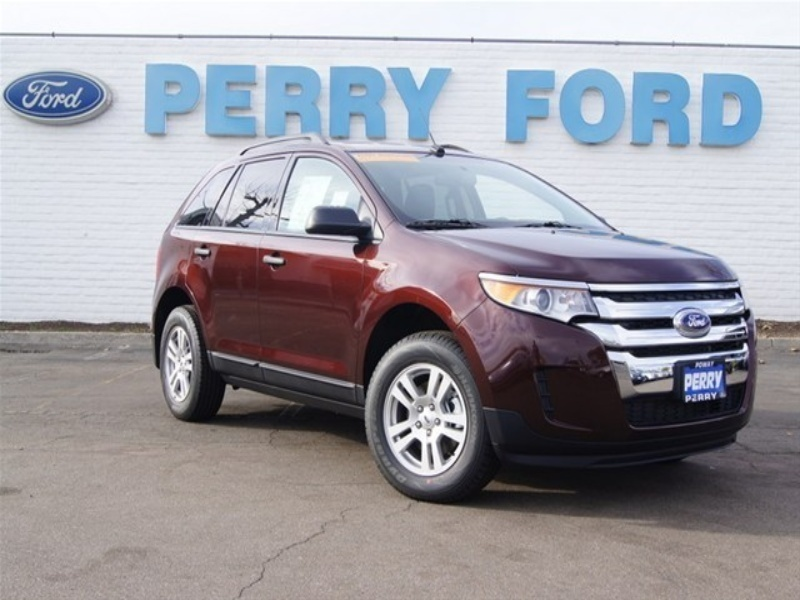normalcar: (176, 122, 754, 539)
